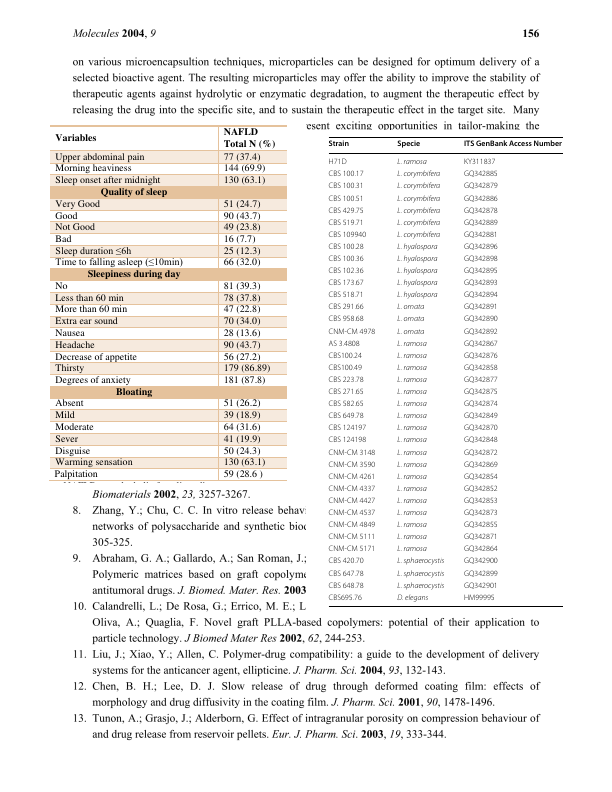borderless: (327, 135, 563, 606), (47, 124, 286, 482)
cell: (54, 255, 183, 270), (54, 174, 161, 187), (222, 126, 276, 151), (86, 268, 181, 281), (54, 151, 145, 164), (54, 244, 132, 259), (54, 350, 137, 364), (54, 456, 133, 469), (54, 162, 132, 175), (54, 374, 131, 387), (463, 139, 563, 149), (54, 303, 127, 316), (54, 292, 124, 305), (99, 186, 168, 199), (54, 315, 118, 328), (222, 362, 271, 375), (54, 198, 100, 211), (53, 468, 98, 481), (222, 162, 266, 175), (222, 174, 266, 187), (222, 374, 266, 387), (222, 456, 266, 469), (54, 132, 97, 145), (222, 209, 261, 223), (222, 350, 261, 364), (114, 385, 153, 399), (222, 444, 261, 458), (54, 221, 95, 234), (54, 339, 95, 352), (222, 468, 263, 481), (54, 421, 94, 434), (54, 444, 91, 458), (222, 151, 261, 164), (222, 198, 261, 211), (222, 221, 261, 234), (222, 245, 261, 258), (222, 256, 261, 269), (222, 280, 261, 293), (222, 292, 261, 305), (222, 303, 261, 316), (222, 315, 261, 328), (222, 327, 261, 340), (222, 339, 261, 352), (222, 397, 261, 410), (222, 409, 261, 422), (222, 421, 261, 434), (222, 433, 261, 446), (396, 556, 445, 566), (396, 169, 441, 179), (396, 181, 441, 191), (222, 233, 256, 246), (396, 569, 445, 578), (396, 581, 445, 590), (328, 508, 376, 517), (328, 520, 376, 529), (328, 532, 376, 541), (396, 254, 438, 264), (396, 266, 438, 276), (396, 278, 438, 288), (396, 290, 438, 300), (396, 194, 441, 203), (396, 206, 441, 215), (396, 218, 441, 227), (396, 230, 441, 239), (54, 327, 85, 340), (54, 362, 85, 375), (54, 397, 84, 410), (328, 327, 376, 335), (328, 448, 376, 456), (328, 460, 376, 468), (328, 472, 376, 480), (328, 484, 376, 492), (328, 496, 376, 504), (328, 545, 376, 553), (396, 242, 438, 251), (54, 209, 78, 223), (328, 254, 364, 263), (463, 254, 499, 263), (328, 266, 364, 275), (463, 266, 499, 275), (328, 278, 364, 287), (463, 278, 499, 287), (328, 387, 364, 396), (463, 387, 499, 396), (328, 399, 364, 408), (463, 399, 499, 408), (328, 411, 364, 420), (463, 411, 499, 420), (463, 508, 499, 517), (463, 520, 499, 529), (463, 532, 499, 541), (396, 157, 428, 167), (396, 375, 428, 385), (396, 387, 428, 397), (396, 399, 428, 409), (396, 411, 428, 421), (396, 423, 428, 433), (396, 435, 428, 445), (396, 496, 428, 506), (396, 508, 428, 518), (396, 520, 428, 530), (396, 532, 428, 542), (396, 544, 428, 554), (328, 230, 367, 238), (328, 424, 367, 432), (328, 436, 367, 444), (54, 433, 78, 446), (463, 157, 496, 166), (396, 593, 429, 602), (327, 170, 364, 178), (327, 182, 364, 190), (327, 194, 364, 202), (396, 302, 425, 312), (463, 170, 499, 178), (463, 182, 499, 190), (463, 194, 499, 202), (328, 206, 364, 214), (463, 206, 499, 214), (328, 218, 364, 226), (463, 218, 499, 226), (463, 230, 499, 238), (328, 242, 364, 250), (463, 242, 499, 250), (328, 291, 364, 299), (463, 291, 499, 299), (328, 303, 364, 311), (463, 303, 499, 311), (328, 315, 364, 323), (463, 315, 499, 323), (463, 327, 499, 335), (396, 339, 428, 348), (463, 339, 499, 347), (396, 351, 428, 360), (463, 351, 499, 359), (396, 363, 428, 372), (463, 363, 499, 371), (328, 375, 364, 383), (463, 375, 499, 383), (463, 424, 499, 432), (463, 436, 499, 444), (396, 448, 428, 457), (463, 448, 499, 456), (396, 460, 428, 469), (463, 460, 499, 468), (396, 472, 428, 481), (463, 472, 499, 480), (396, 484, 428, 493), (463, 484, 499, 492), (463, 496, 499, 504), (463, 545, 499, 553), (328, 557, 364, 565), (463, 557, 499, 565), (328, 569, 364, 577), (463, 569, 499, 577), (328, 581, 364, 589), (463, 581, 499, 589), (328, 351, 363, 359), (328, 363, 363, 371), (328, 593, 363, 601), (54, 409, 75, 422), (328, 339, 361, 347), (463, 593, 496, 601), (396, 315, 425, 324), (396, 327, 425, 336), (396, 139, 421, 149), (54, 233, 72, 246), (327, 139, 350, 149), (327, 157, 348, 166), (54, 280, 68, 293)
